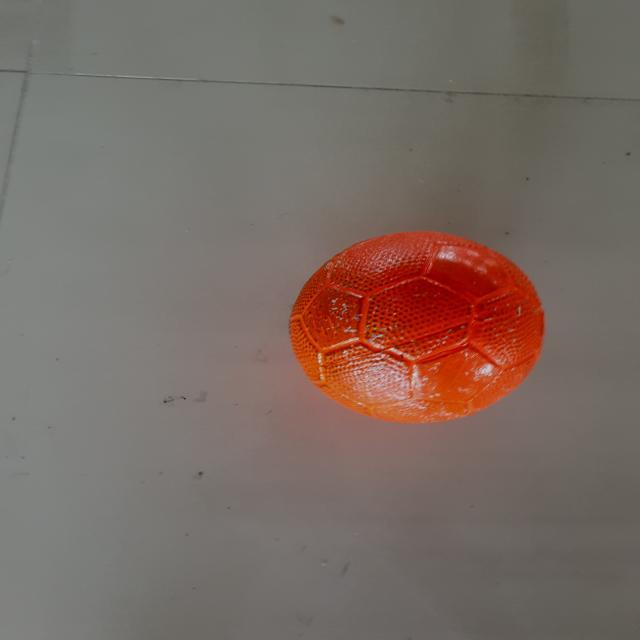bola: (282, 220, 556, 432)
